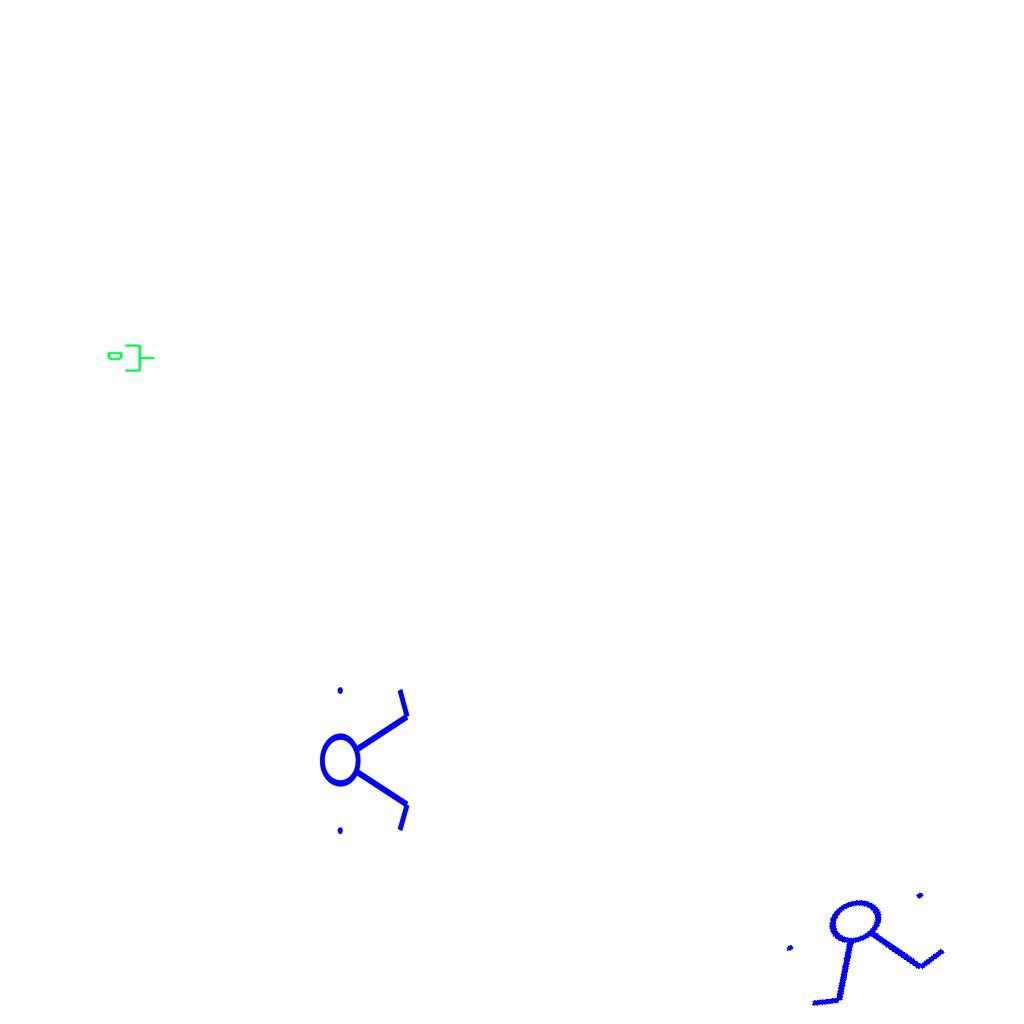Datenanschluss_einfach: (106, 342, 156, 376)
Serienschalter: (770, 869, 962, 1021), (318, 675, 414, 843)
